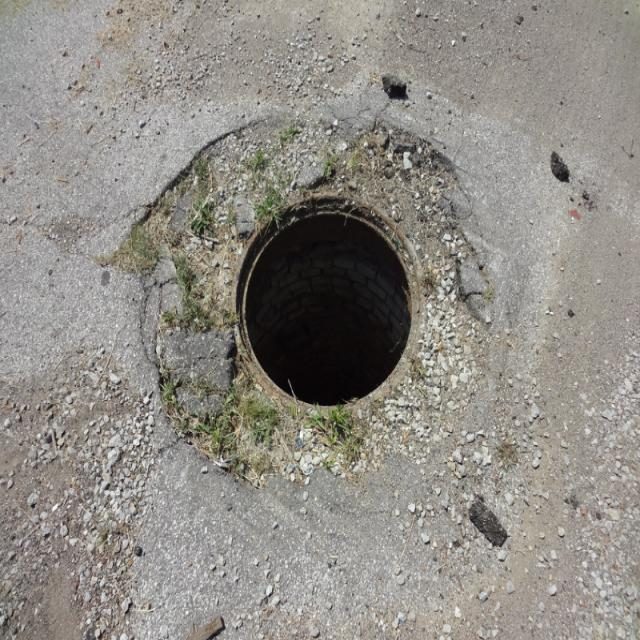Tree: (236, 195, 420, 407)
